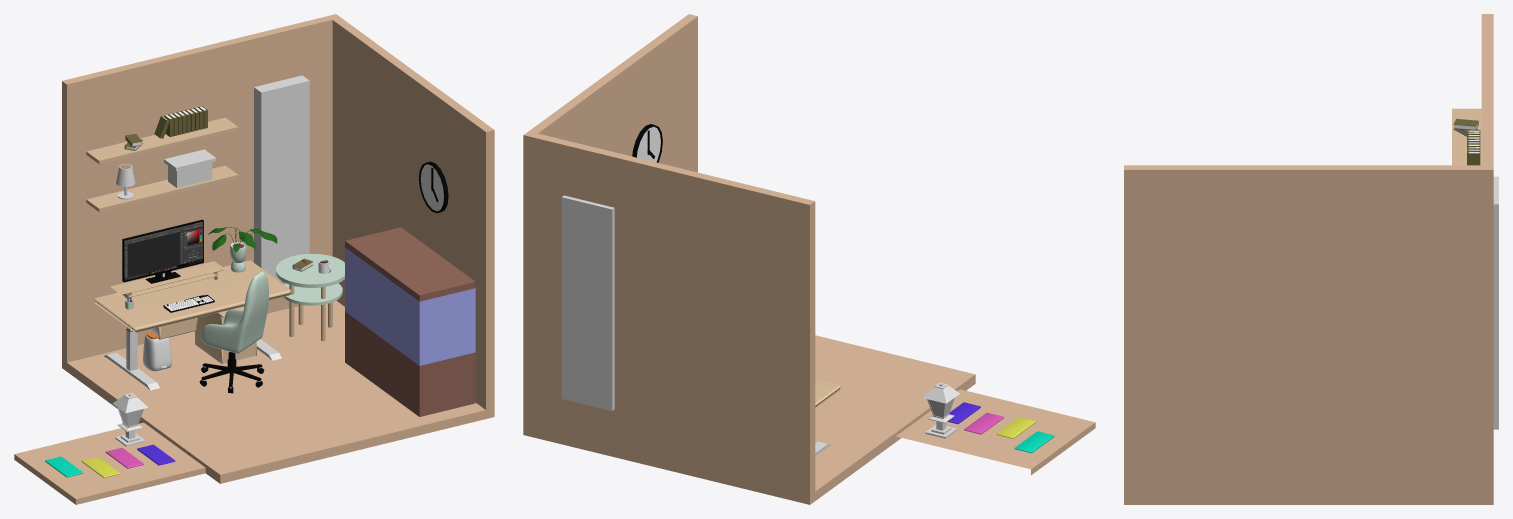
The model's file is room.glb.
The picture shows the model from 3 angles, left to right: view 1: azimuth 30°, elevation 25°; view 2: azimuth 150°, elevation 25°; view 3: azimuth 270°, elevation 25°; orthographic projection. The views are drawn at different scales.
Parts seen in each view (by area): view 1: Wall, Base, Cutout.001, Glas, FloorNew, TableTop, PcScreen.001, Chair, Shelf.001, Shelf, PlateUp, TableTopTop (+10 smaller); view 2: Wall, Cutout.001, FloorNew, Lamp, Clock; view 3: Wall, Cutout.001, Shelf.001, Book.
Boxes of the visible parts, <box> form: Wall: <box>62,14,494,483</box>; Base: <box>345,227,475,416</box>; Cutout.001: <box>254,75,309,281</box>; Glas: <box>345,247,475,365</box>; FloorNew: <box>14,422,205,504</box>; TableTop: <box>95,260,290,332</box>; PcScreen.001: <box>124,221,203,280</box>; Chair: <box>202,271,268,353</box>; Shelf.001: <box>86,117,238,164</box>; Shelf: <box>86,165,238,211</box>; PlateUp: <box>276,253,344,287</box>; TableTopTop: <box>110,261,224,299</box>; Wall: <box>523,14,975,504</box>; Cutout.001: <box>561,195,614,410</box>; FloorNew: <box>896,389,1095,474</box>; Lamp: <box>922,382,959,438</box>; Clock: <box>632,124,662,162</box>; Wall: <box>1124,14,1493,504</box>; Cutout.001: <box>1493,176,1498,429</box>; Shelf.001: <box>1452,108,1481,165</box>; Book: <box>1467,131,1480,165</box>.
Size of the model in its own units: 31.67 by 21.53 by 21.83.
Materials: 30 (1 with a texture image).
